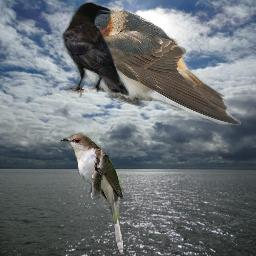Crow: (62, 2, 130, 98)
Cuckoo: (59, 133, 124, 254)
Swallow: (69, 7, 241, 125)
